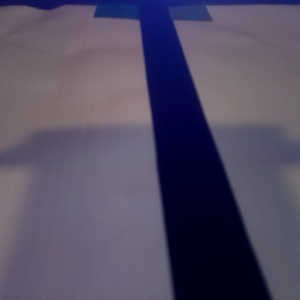bottom_left: (94, 1, 168, 20)
bottom_right: (139, 1, 212, 20)
